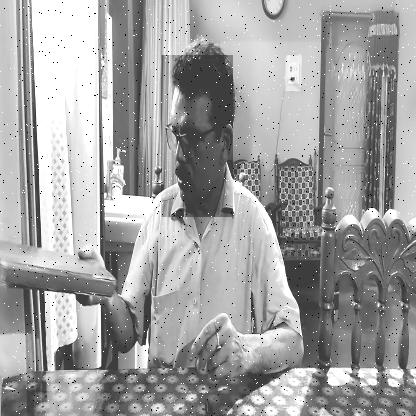Distracted: (160, 56, 232, 218)
